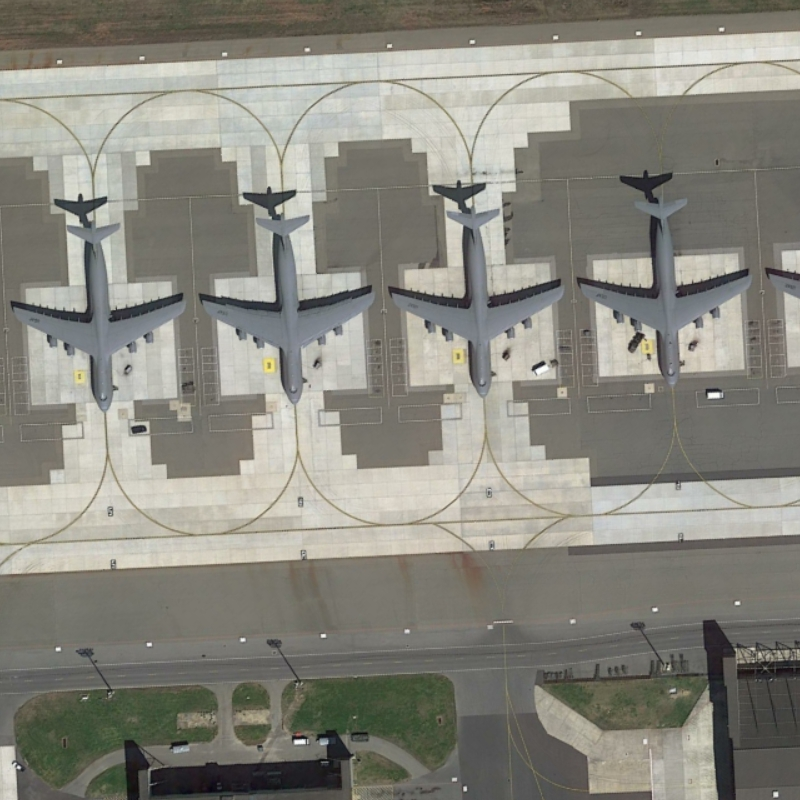A4: (7, 204, 196, 421), (573, 178, 756, 397), (194, 202, 381, 410), (384, 196, 568, 405)
